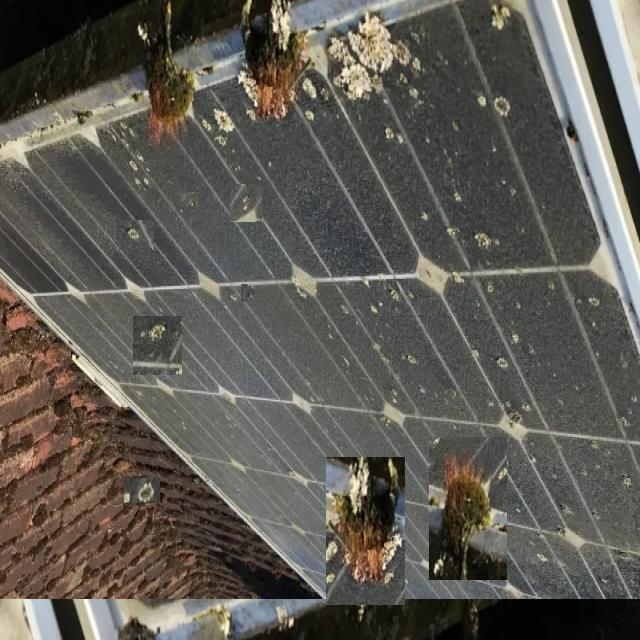Bird-drop: (326, 457, 405, 605), (429, 437, 507, 580), (235, 495, 305, 593), (133, 316, 182, 375), (231, 184, 263, 222), (117, 220, 154, 250), (127, 552, 150, 597), (124, 478, 160, 503), (221, 503, 239, 543), (117, 160, 136, 193), (179, 193, 198, 207), (241, 284, 254, 302)
Dusty: (0, 0, 640, 599)
